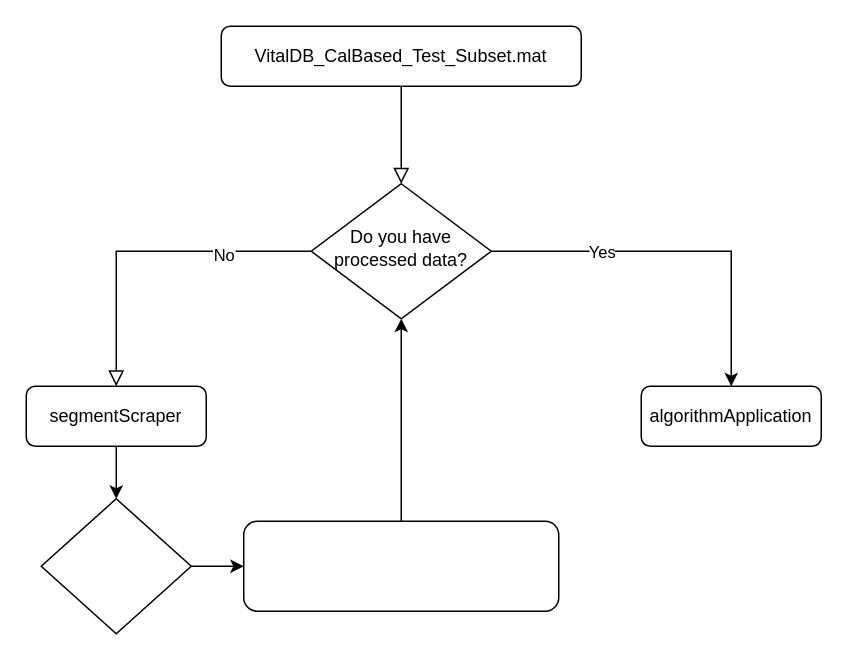
Image size: 848x660. Some labels were removed from this diagram. Here are the shapes that lost their labels. From the top down, the centre of each, then its label:
At [115,565]: "Save new data".
At [400,565]: "VitalDB_Subset_Processed.npz".
